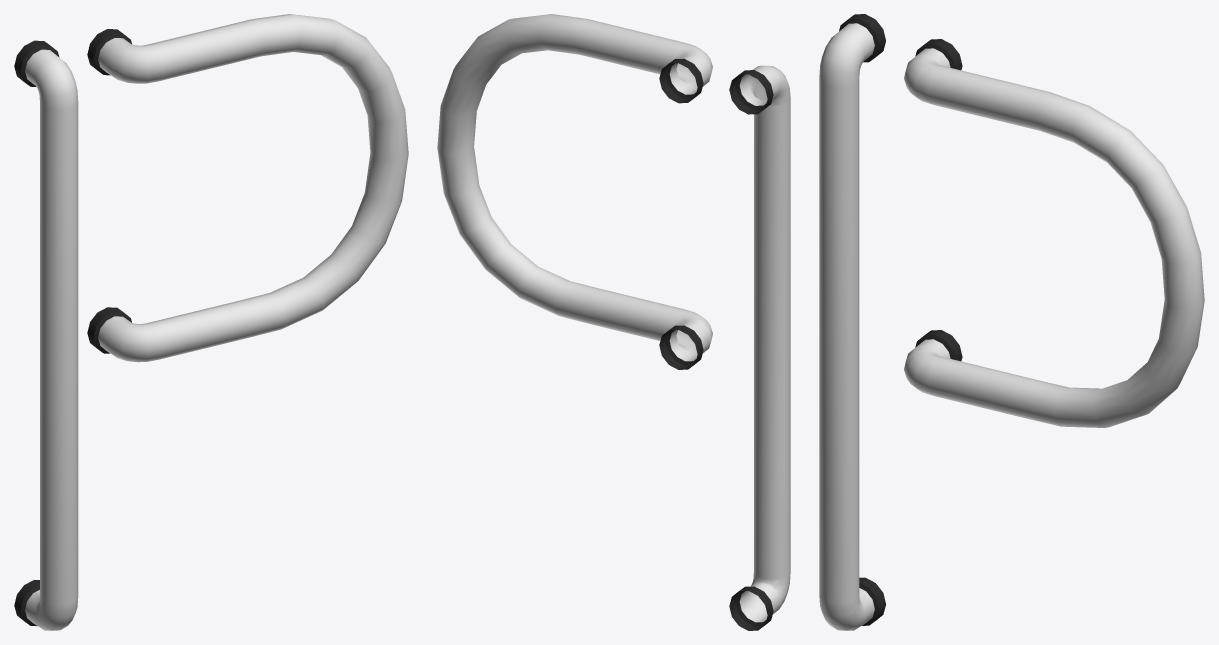
The model's file is LettersNeon01_P.FBX.
3 renders of one model, left to right at view 1: azimuth 30°, elevation 25°; view 2: azimuth 150°, elevation 25°; view 3: azimuth 330°, elevation 25°, orthographic. The views are drawn at different scales.
Visible parts, largest first — view 1: LettersNeon01_P; view 2: LettersNeon01_P; view 3: LettersNeon01_P.
Boxes of the visible parts, x1,y1,x2,y2 form: LettersNeon01_P: [14, 14, 408, 630]; LettersNeon01_P: [437, 14, 790, 630]; LettersNeon01_P: [819, 14, 1204, 630].
Size of what is drawn, in the model's own units: 0.3326 by 0.503 by 0.054.
